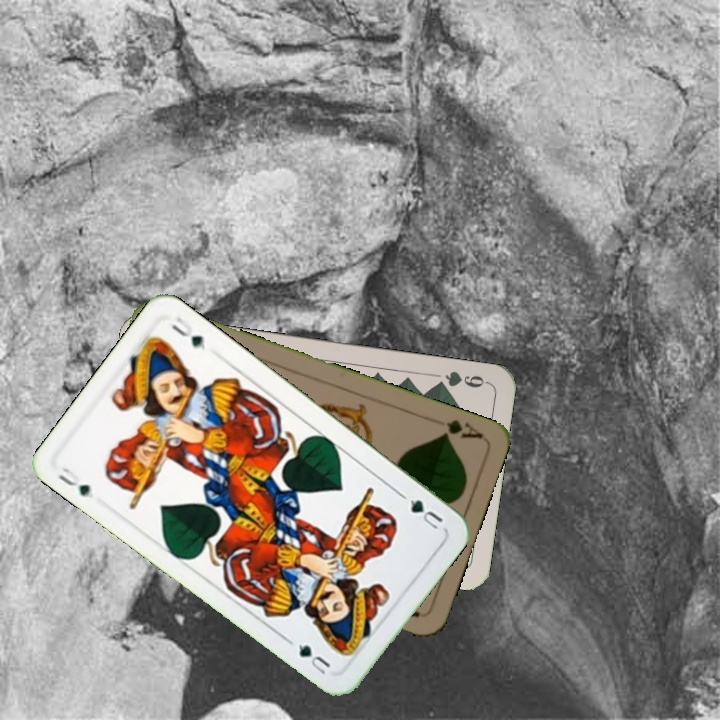G9: (430, 367, 490, 391)
GA: (436, 415, 486, 442)
GU: (397, 490, 446, 532), (53, 463, 93, 499)
